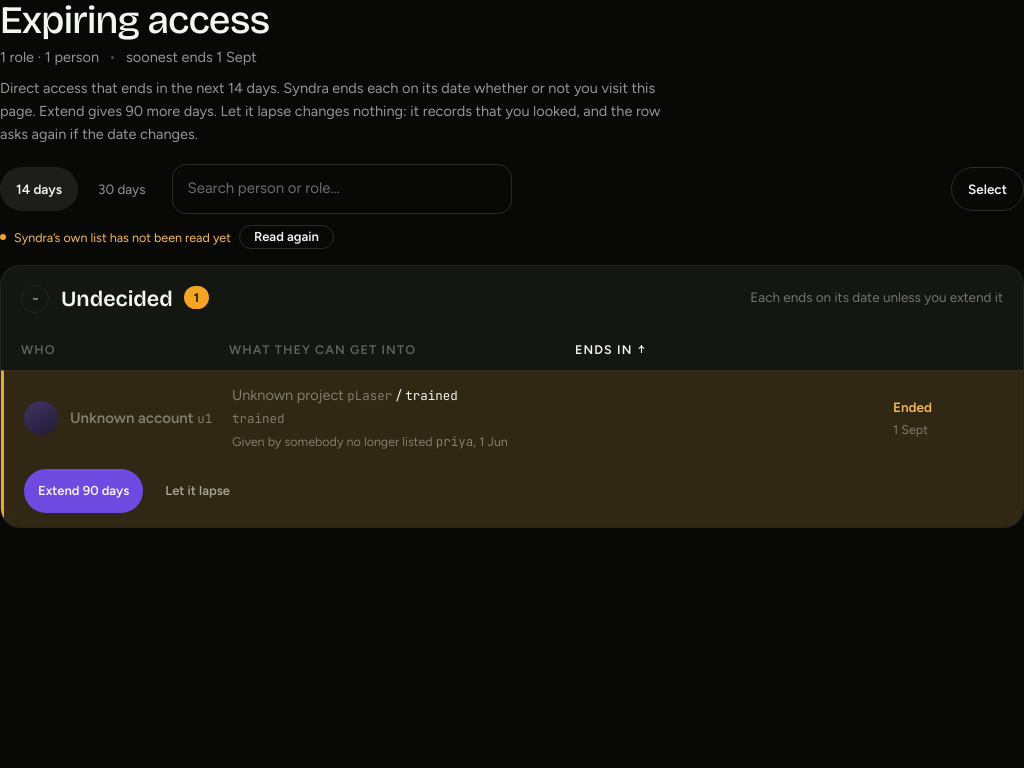
Test case: Expiring access — acknowledgement (C4) › cannot record the same decision twice
Click the button "Let it lapse" at (198, 491), box [151, 469, 244, 513]
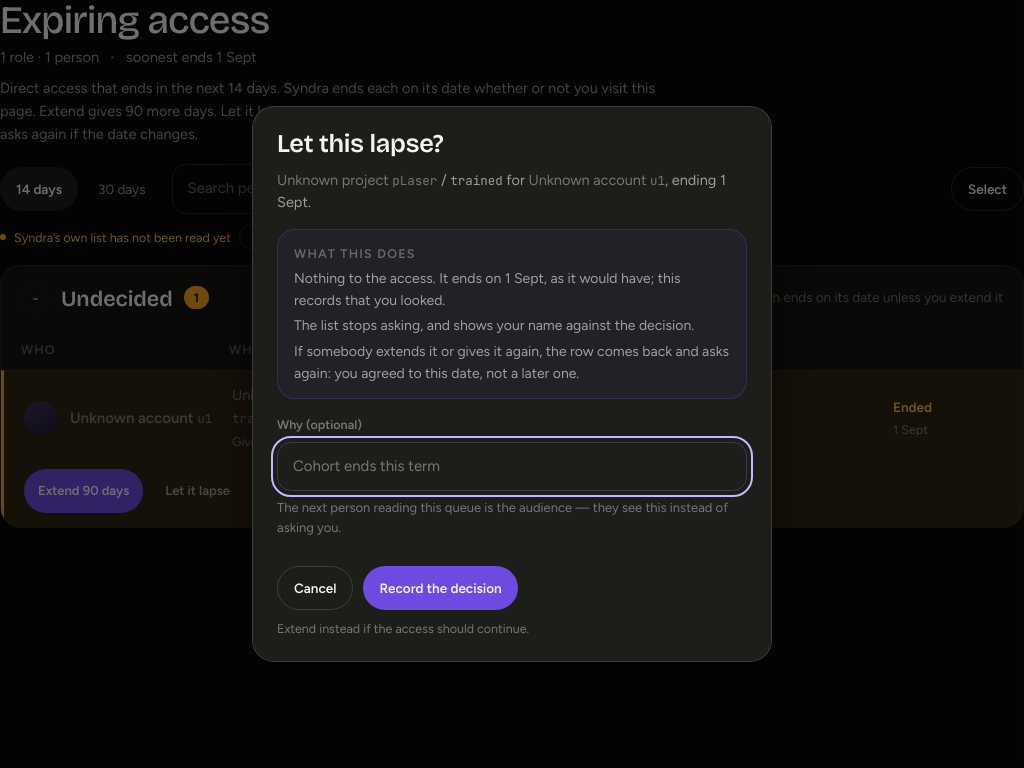
Click the button "Record the decision" at (441, 588), box [363, 566, 518, 610]
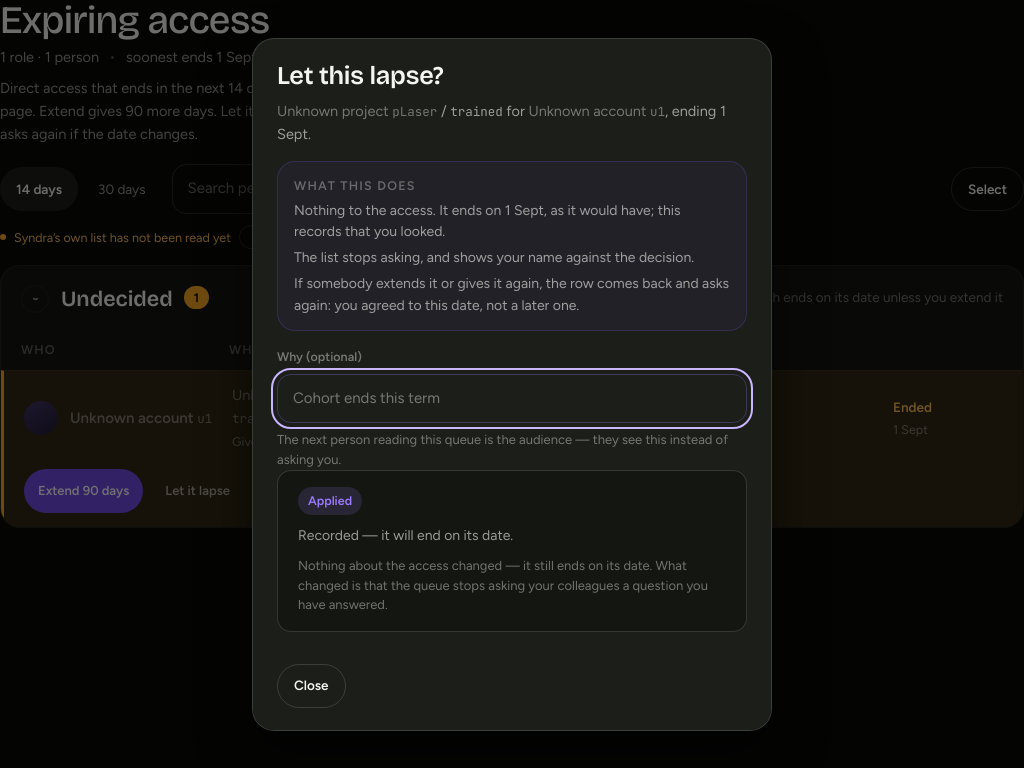
expect the button "Close" is shown: met, box [277, 663, 346, 707]
expect the button "Record the decision" is gone: met
